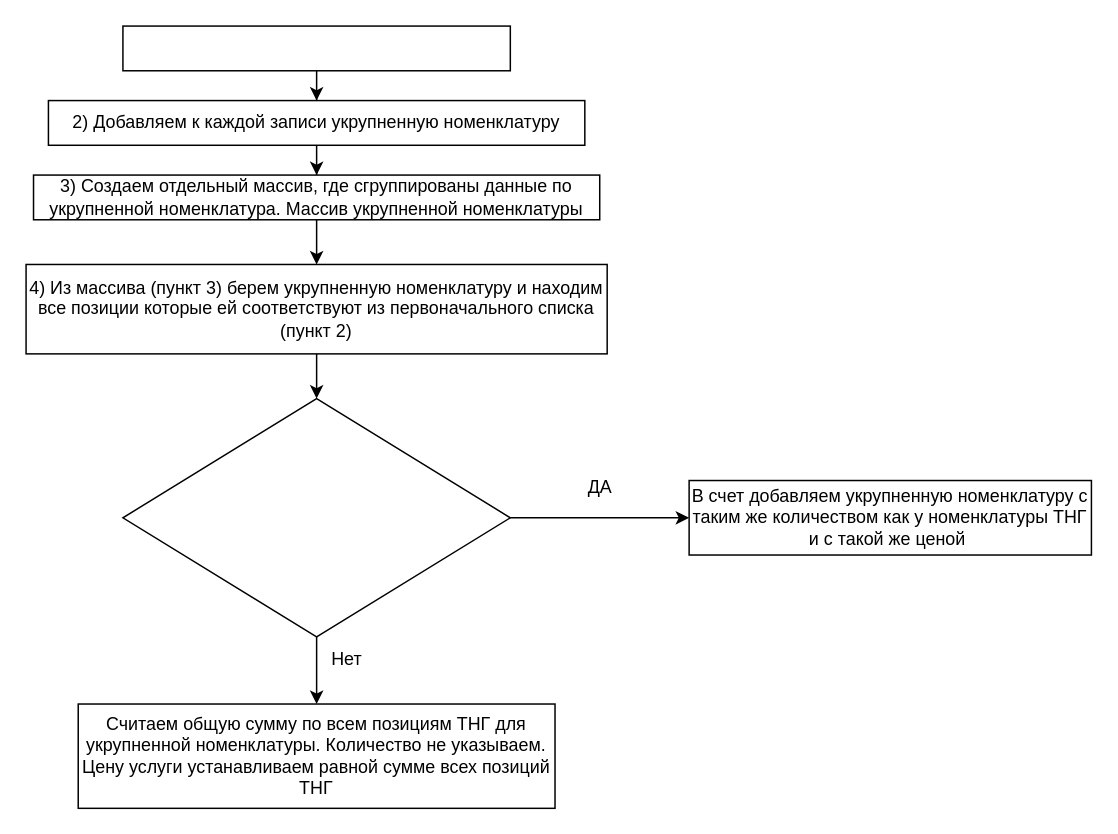
The diagram is 1118 pixels wide and 834 high, and some of its shapes have lost their labels. Here are the shapes that lost their labels. From the top down, the centre of each, then its label:
At (315,48): "1) Получаем список товаров и услуг из запроса".
At (315,517): "Количество позиций ТНГ для одной урупненной номенклатуры РАВНО 1".
